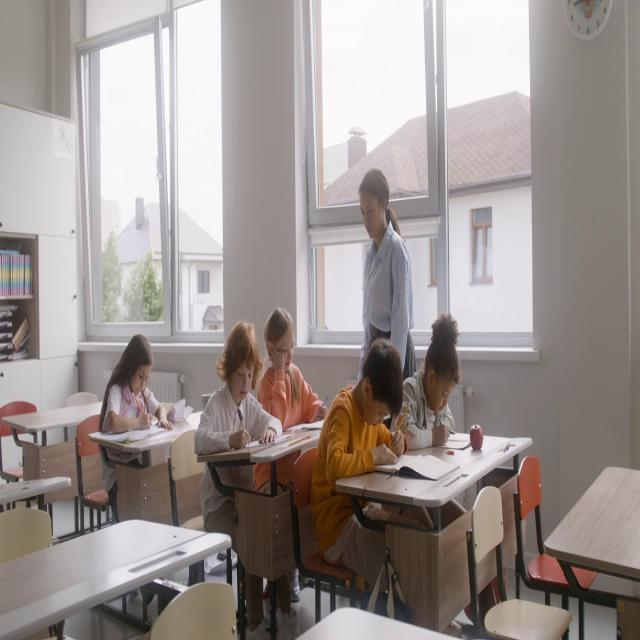reading: (258, 306, 326, 496)
writing: (313, 340, 419, 630), (194, 321, 286, 639), (398, 315, 461, 449), (99, 335, 171, 445)
